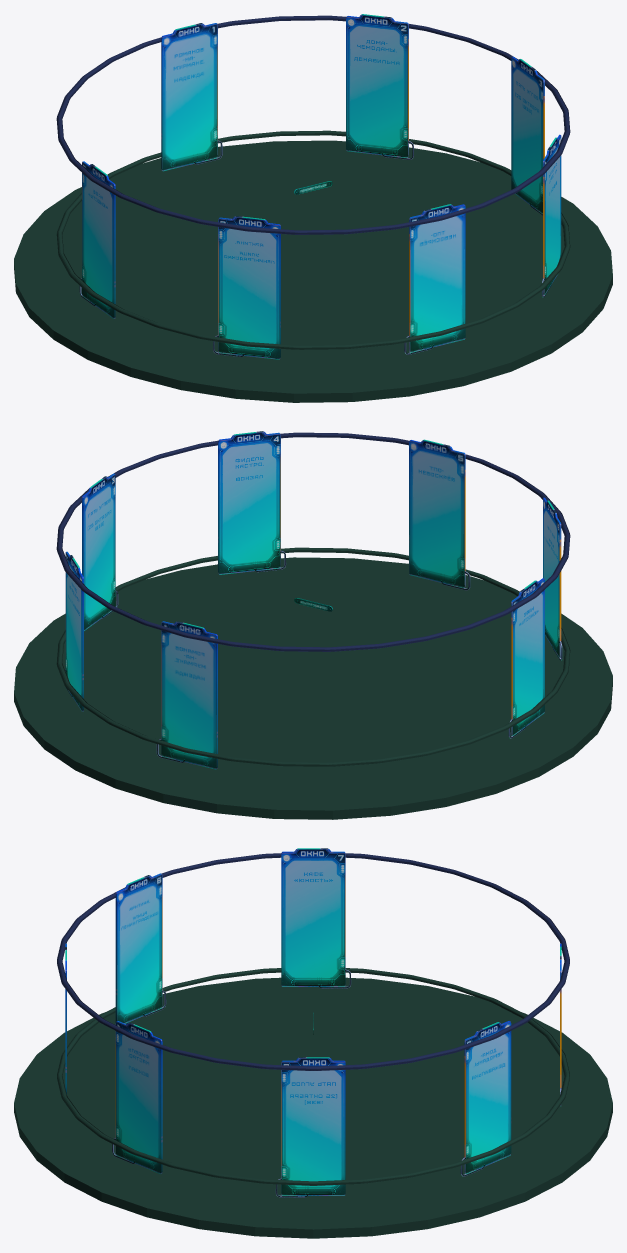
Rendered from interface.gltf.
The picture shows the model from 3 angles, top to bottom: view 1: azimuth 30°, elevation 25°; view 2: azimuth 150°, elevation 25°; view 3: azimuth 270°, elevation 25°; orthographic projection.
Parts seen in each view (by area): view 1: Cylinder, Cube.002, Cube.006, Cube, Cube.005, Circle, Circle.001, Cube.003, Cube.007, Cube.004; view 2: Cylinder, Cube.004, Cube.005, Cube, Circle, Circle.001, Cube.003, Cube.007, Cube.006, Cube.002; view 3: Cylinder, Cube.007, Cube.003, Cube.006, Cube.002, Cube.004, Circle, Circle.001.
Part boxes in pixels (x1,y1,x2,y2): Cylinder: (14, 140, 612, 402); Cube.002: (346, 14, 413, 159); Cube.006: (213, 216, 280, 359); Cube: (161, 23, 222, 171); Cube.005: (404, 204, 465, 354); Circle: (56, 15, 570, 234); Circle.001: (56, 130, 570, 349); Cube.003: (511, 56, 544, 215); Cube.007: (79, 161, 115, 318); Cube.004: (542, 134, 561, 297); Cylinder: (14, 557, 612, 819); Cube.004: (218, 431, 286, 574); Cube.005: (409, 439, 470, 590); Cube: (156, 621, 217, 769); Circle: (56, 432, 570, 651); Circle.001: (56, 547, 570, 766); Cube.003: (82, 473, 118, 630); Cube.007: (508, 578, 544, 738); Cube.006: (543, 497, 562, 660); Cube.002: (65, 551, 83, 711); Cylinder: (14, 977, 612, 1238); Cube.007: (281, 848, 351, 988); Cube.003: (275, 1057, 345, 1197); Cube.006: (115, 873, 166, 1023); Cube.002: (460, 1021, 511, 1176); Cube.004: (112, 1021, 162, 1174); Circle: (57, 853, 569, 1070); Circle.001: (57, 968, 569, 1185).
Bounding box in the file's own units: 9.69 × 2.84 × 9.69.
Materials: 10 (8 with a texture image).
